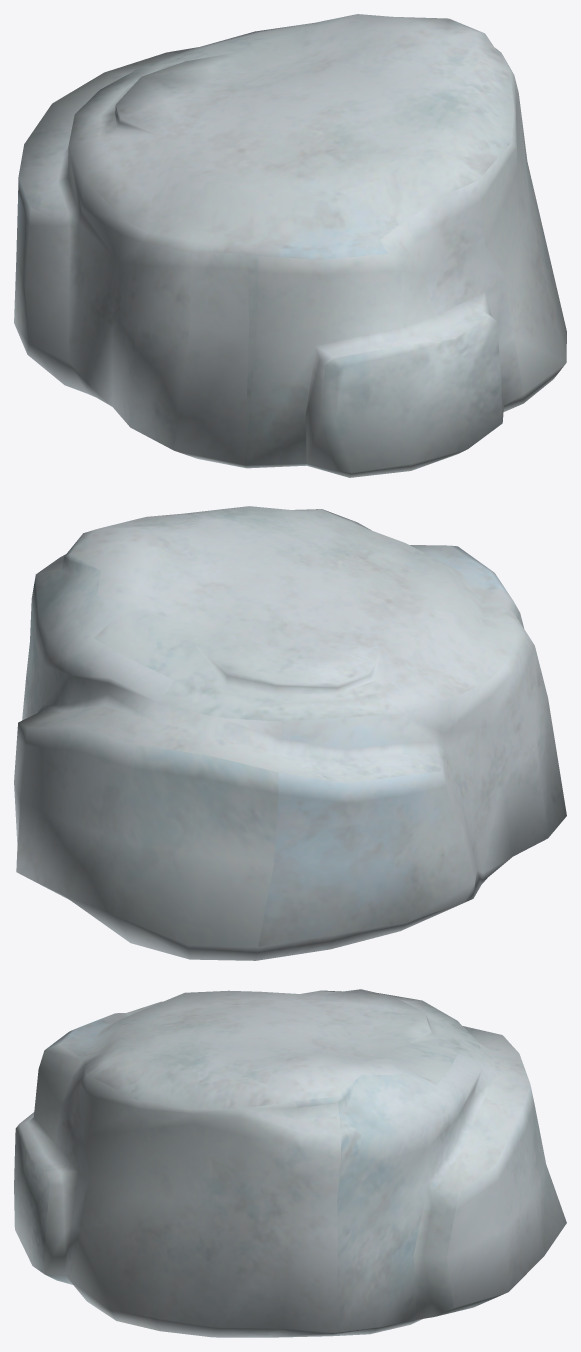
The model's file is P_RockDesert_Shelf02.obj.
3 renders of one model, top to bottom at view 1: azimuth 30°, elevation 25°; view 2: azimuth 150°, elevation 25°; view 3: azimuth 270°, elevation 25°, orthographic. The views are drawn at different scales.
Size of the model in its own units: 19.44 by 11.74 by 22.38.
